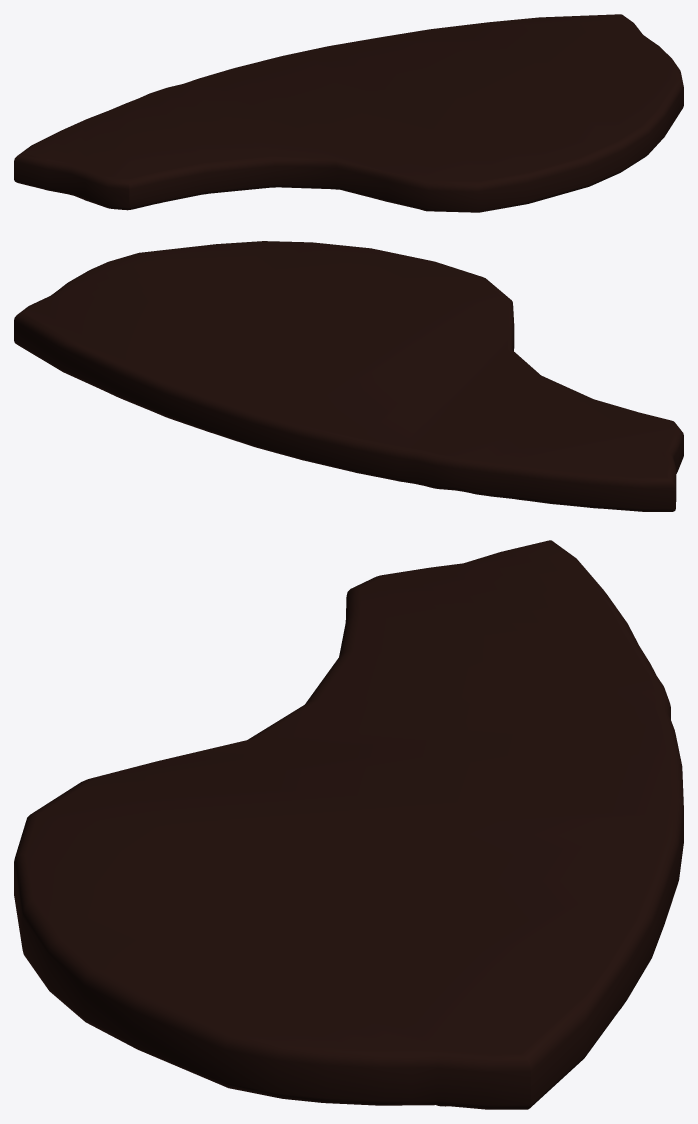
The model's file is Et yanmış.fbx.
The picture shows the model from 3 angles, top to bottom: view 1: azimuth 30°, elevation 25°; view 2: azimuth 150°, elevation 25°; view 3: azimuth 270°, elevation 25°; orthographic projection. The views are drawn at different scales.
Visible parts, largest first — view 1: Cube; view 2: Cube; view 3: Cube.
Boxes of the visible parts, left/top/right/bottom form: Cube: left=14, top=14, right=683, bottom=212; Cube: left=14, top=241, right=683, bottom=511; Cube: left=14, top=540, right=683, bottom=1109.
Bounding box in the file's own units: 65 × 3.08 × 35.
